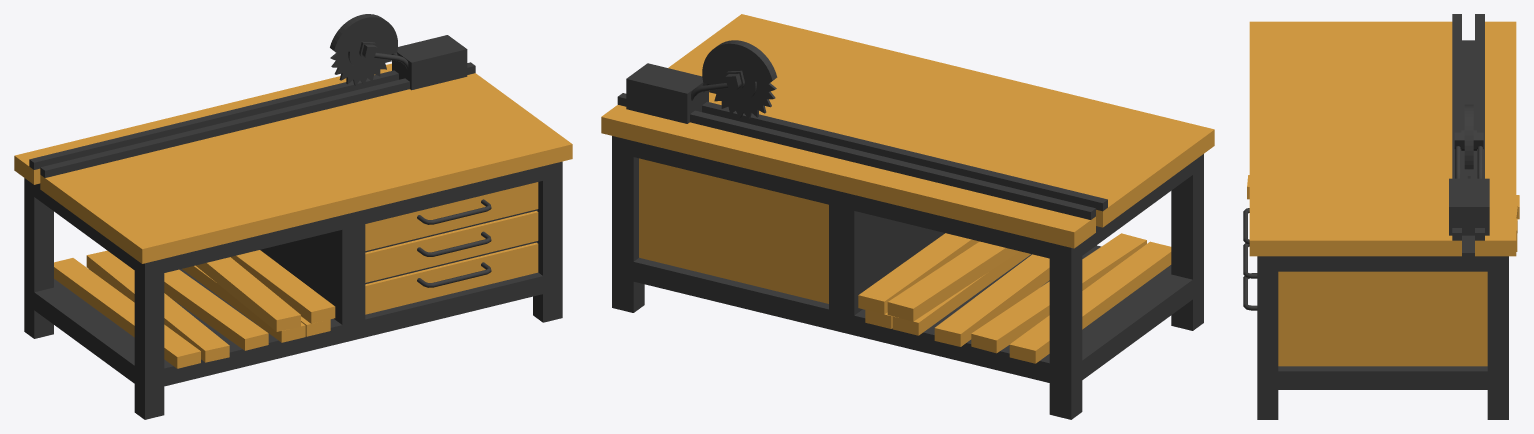
Rendered from SM_SculptingBench.fbx.
3 renders of one model, left to right at view 1: azimuth 30°, elevation 25°; view 2: azimuth 150°, elevation 25°; view 3: azimuth 270°, elevation 25°, orthographic. The views are drawn at different scales.
Parts seen in each view (by area): view 1: SM_SculptingBench; view 2: SM_SculptingBench; view 3: SM_SculptingBench.
Boxes of the visible parts, x1,y1,x2,y2 form: SM_SculptingBench: (14,14,572,419); SM_SculptingBench: (601,14,1214,419); SM_SculptingBench: (1243,14,1519,419).
Size of the model in its own units: 206 by 110 by 115.
